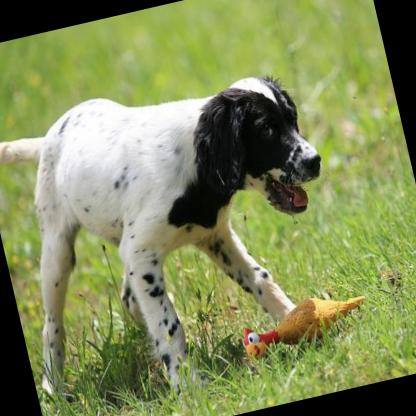English_setter: (0, 48, 366, 416)
